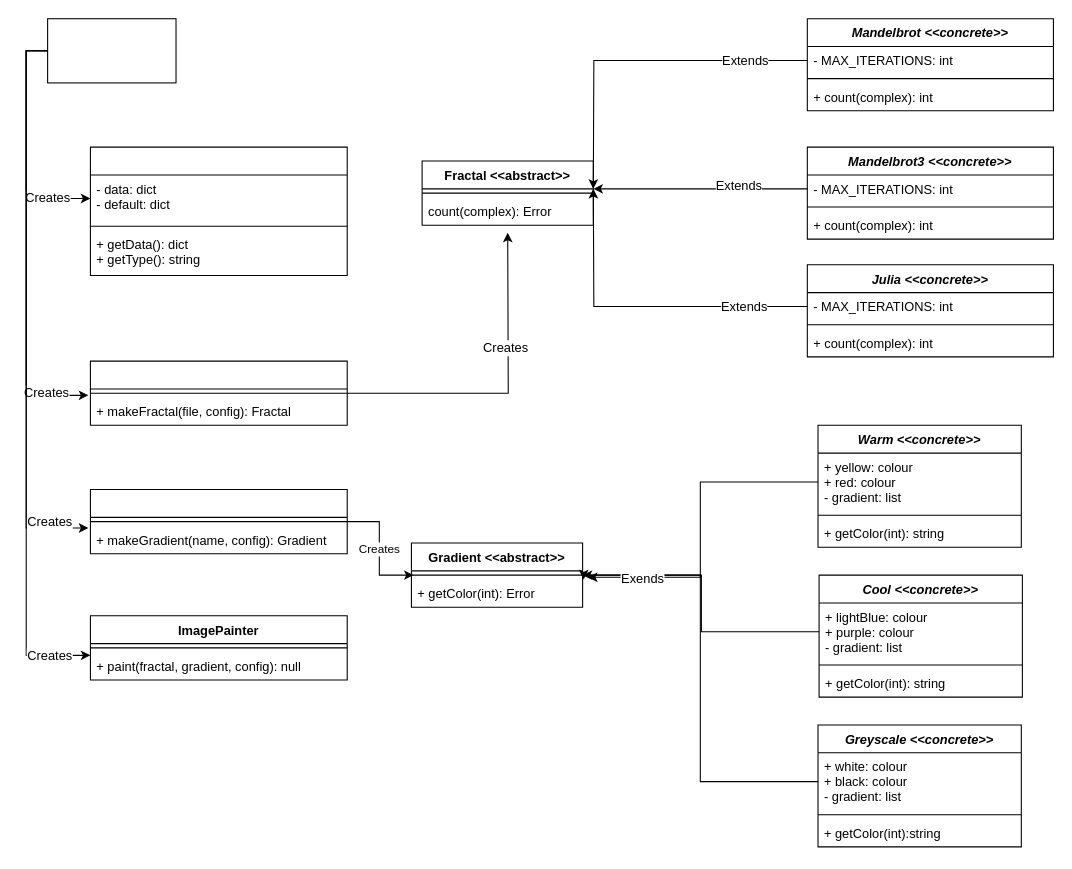
This 1072x869 diagram has some shape labels left out. The box of each missing label's shape, as (x1, y1, x2, y2) in pixels:
Config: (89, 146, 347, 276)
FractalFatory: (89, 360, 347, 425)
GradientFactory: (89, 488, 347, 554)
main (Driver): (47, 18, 176, 83)
